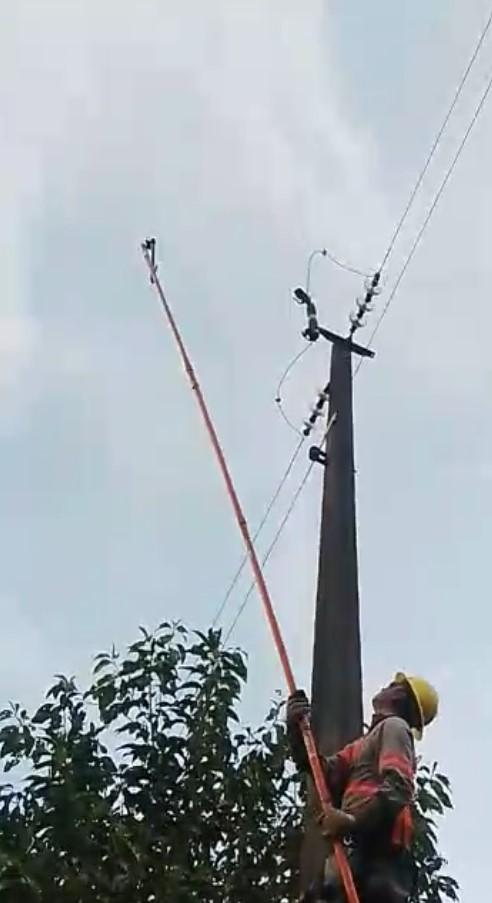Vara_Manobra: (137, 237, 354, 903)
